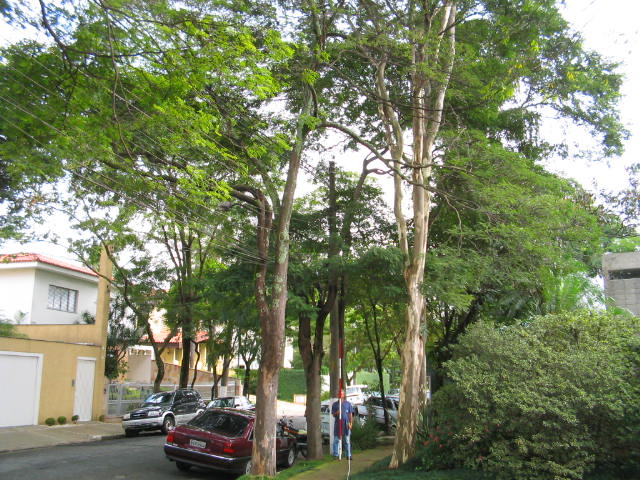stem: (292, 359, 331, 461)
stick: (333, 336, 346, 462)
tree: (287, 150, 390, 463)
